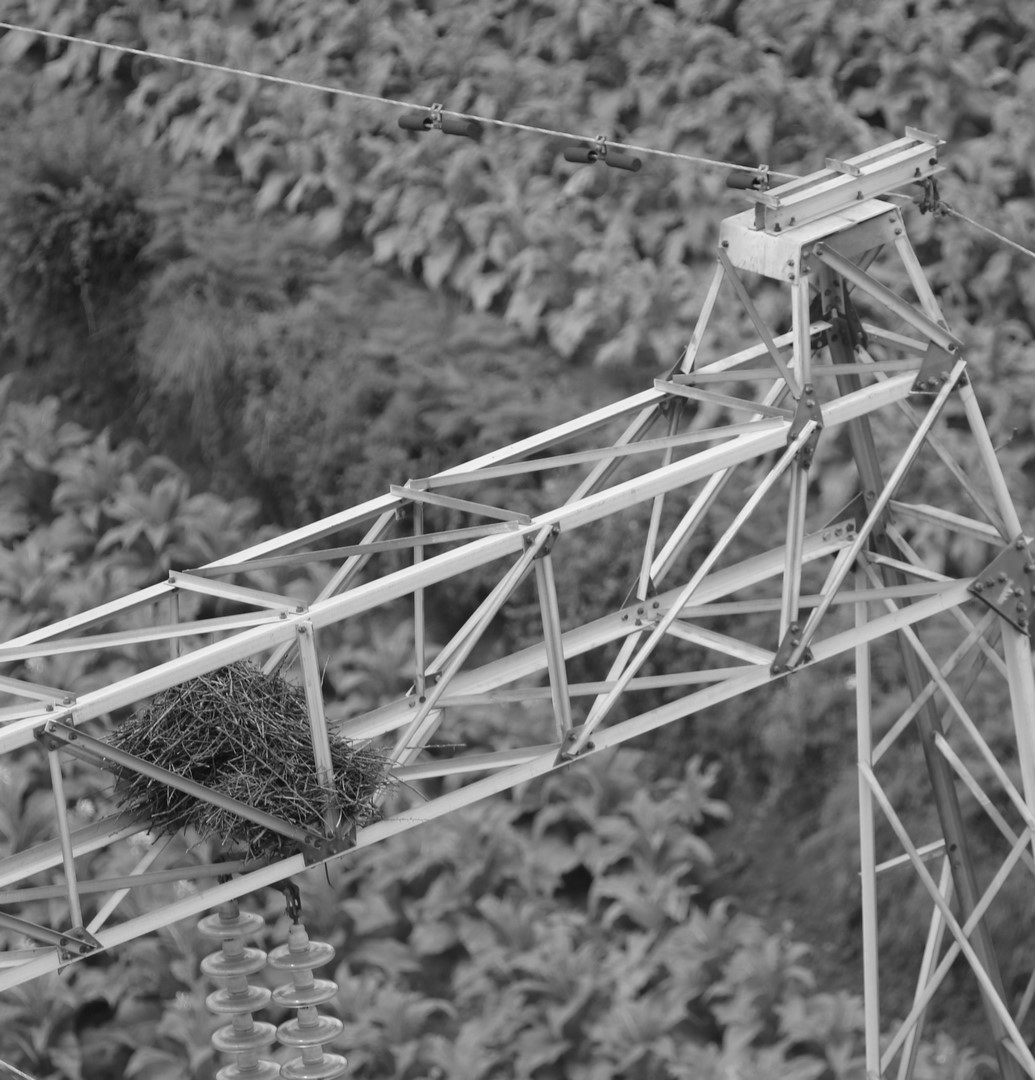niaowo: (105, 638, 386, 873)
